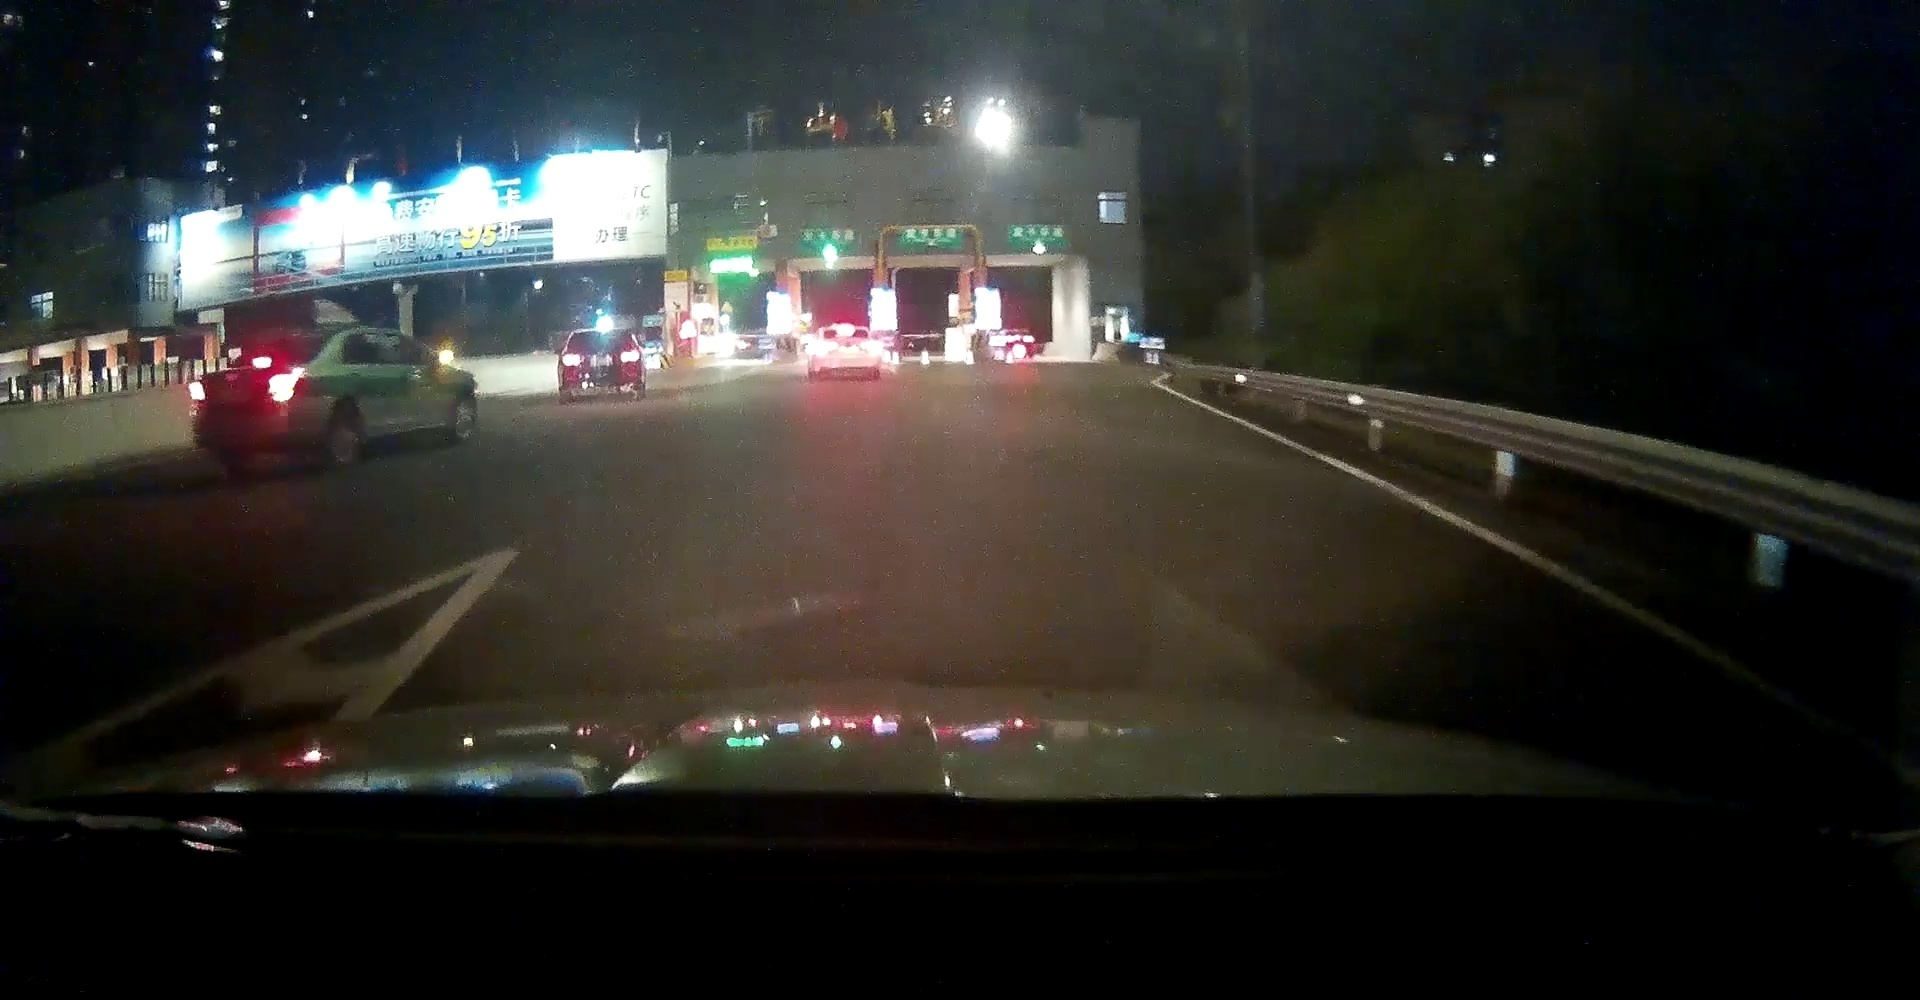L_light: (189, 379, 207, 398), (563, 355, 584, 365), (815, 343, 832, 350)
R_light: (268, 369, 305, 393), (621, 352, 640, 363), (862, 343, 880, 352)
T_light: (251, 358, 272, 365), (590, 331, 607, 338), (839, 330, 853, 334)
night-brake: (187, 322, 334, 472), (811, 325, 883, 379)
night-no: (560, 327, 643, 404)
